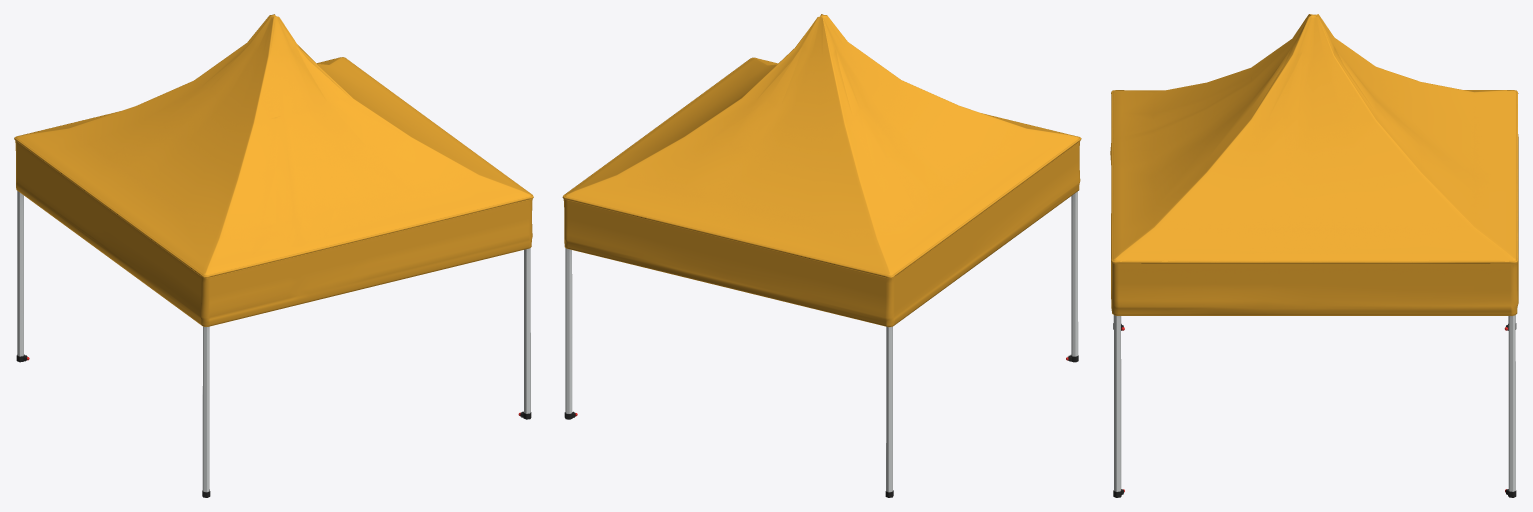
Rendered from Tent_8_8.draco.glb.
The picture shows the model from 3 angles, left to right: view 1: azimuth 30°, elevation 25°; view 2: azimuth 150°, elevation 25°; view 3: azimuth 270°, elevation 25°; orthographic projection. The views are drawn at different scales.
Visible parts, largest first — view 1: fabric, leg; view 2: fabric, leg; view 3: fabric, leg.
Part boxes in pixels (x1,y1,x2,y2): fabric: (14,14,533,326); leg: (16,191,531,497); fabric: (562,14,1081,327); leg: (564,191,1078,497); fabric: (1110,14,1518,315); leg: (1113,315,1516,497).
Size of the model in its own units: 2.44 by 2.62 by 2.44.
Materials: 3 (2 with a texture image).
